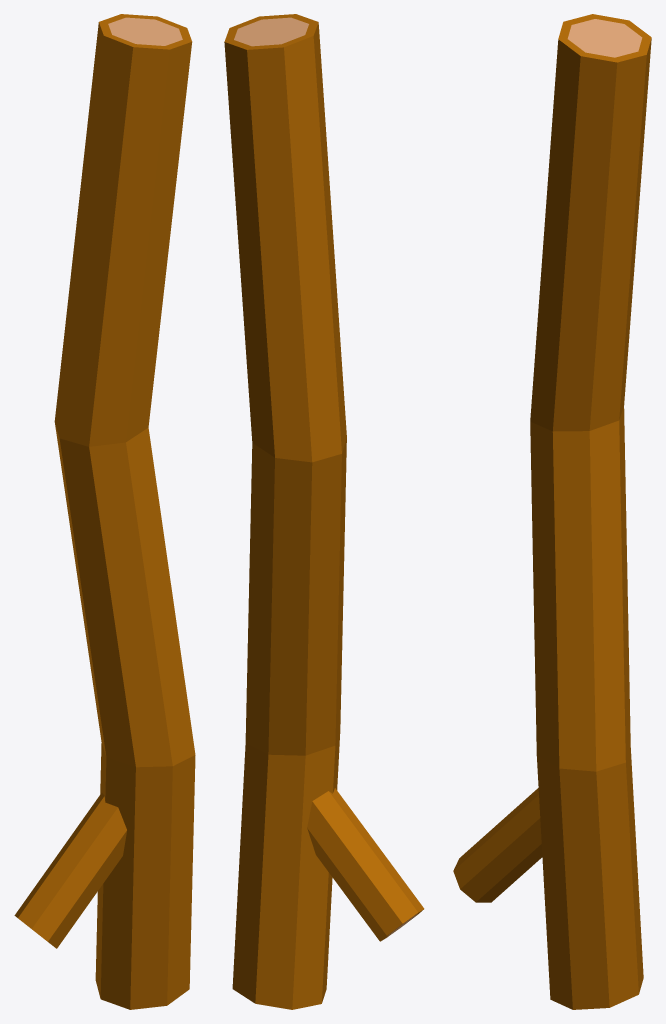
The model's file is (old)GEO_stick_1.fbx.
The picture shows the model from 3 angles, left to right: view 1: azimuth 30°, elevation 25°; view 2: azimuth 150°, elevation 25°; view 3: azimuth 330°, elevation 25°; orthographic projection.
Parts seen in each view (by area): view 1: GEO_stick_1; view 2: GEO_stick_1; view 3: GEO_stick_1.
Part boxes in pixels (x1=…): GEO_stick_1: x1=14, y1=14, x2=195, y2=1009; GEO_stick_1: x1=224, y1=14, x2=424, y2=1009; GEO_stick_1: x1=453, y1=14, x2=651, y2=1009.
Size of the model in its own units: 22.17 by 114 by 14.82.
